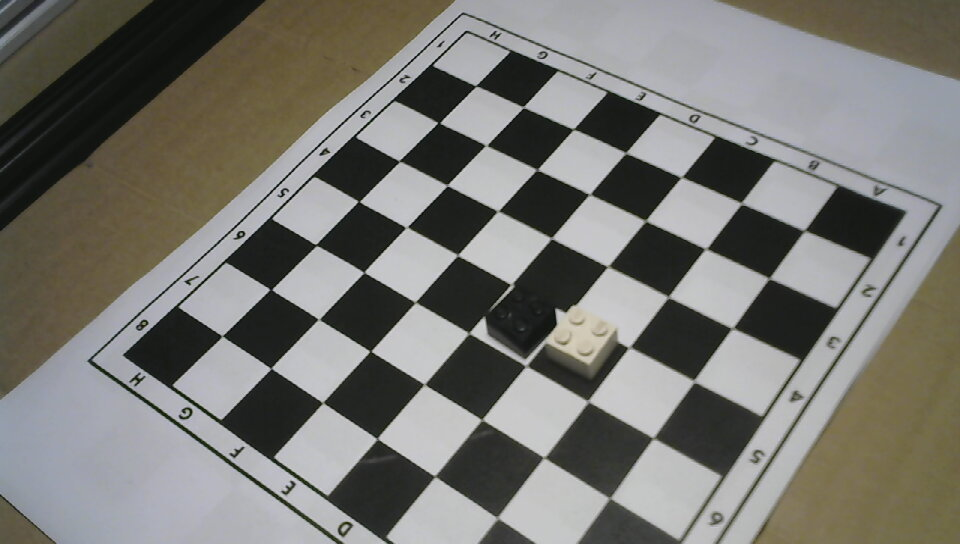bp: (483, 281, 545, 360)
